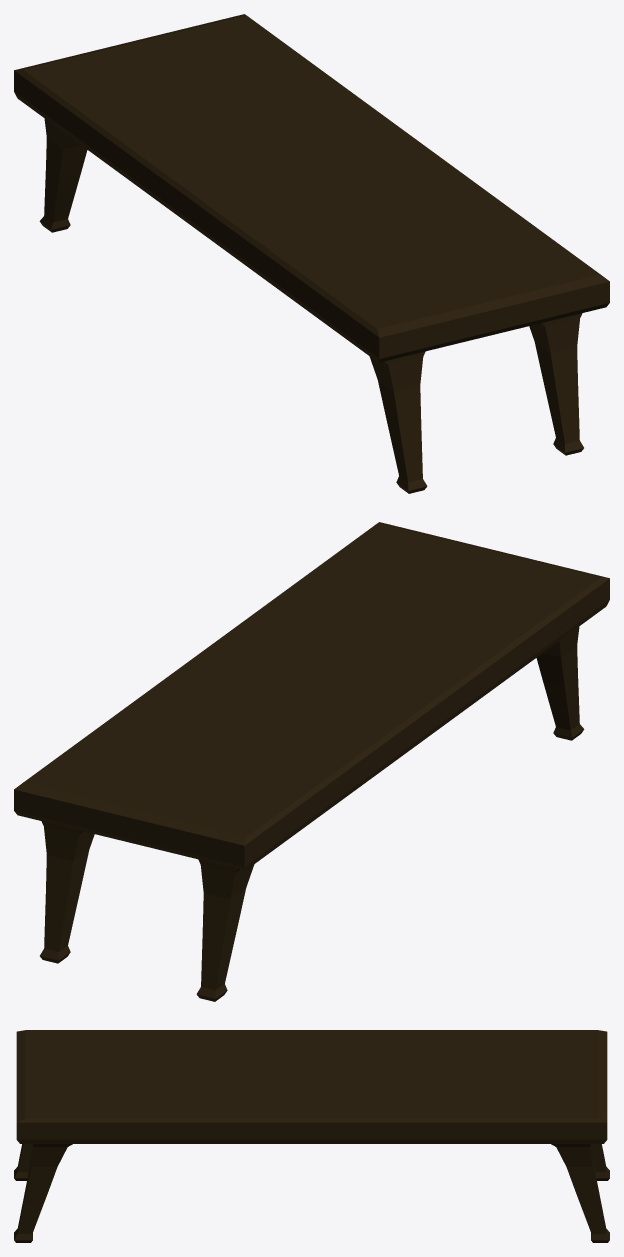
The model's file is M_Table01.fbx.
3 renders of one model, top to bottom at view 1: azimuth 30°, elevation 25°; view 2: azimuth 150°, elevation 25°; view 3: azimuth 270°, elevation 25°, orthographic. The views are drawn at different scales.
Parts seen in each view (by area): view 1: Table.002; view 2: Table.002; view 3: Table.002.
Boxes of the visible parts, x1,y1,x2,y2 form: Table.002: [14, 14, 609, 493]; Table.002: [14, 522, 609, 1001]; Table.002: [14, 1030, 609, 1242].
Size of the model in its own units: 61.9 by 42.76 by 171.
